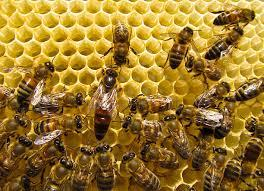Queen-Bee: (88, 69, 117, 139)
worker-bee: (176, 102, 233, 138), (17, 62, 54, 111), (34, 115, 87, 144), (25, 139, 65, 176), (121, 152, 159, 190), (0, 136, 32, 180), (104, 22, 136, 65), (205, 26, 243, 59), (185, 55, 221, 87), (164, 115, 190, 158), (165, 27, 192, 68), (176, 104, 222, 128), (33, 92, 83, 114), (122, 116, 163, 142), (43, 156, 73, 190), (71, 146, 94, 190), (0, 114, 30, 147), (203, 147, 226, 190), (194, 82, 230, 109), (140, 143, 178, 168), (129, 94, 172, 116), (241, 137, 263, 177), (95, 144, 114, 190), (212, 5, 254, 25), (227, 77, 263, 100), (214, 102, 234, 138), (219, 158, 241, 190), (191, 136, 211, 170), (3, 175, 36, 190), (245, 117, 263, 138), (0, 85, 13, 113), (254, 169, 263, 189), (174, 183, 195, 190)
